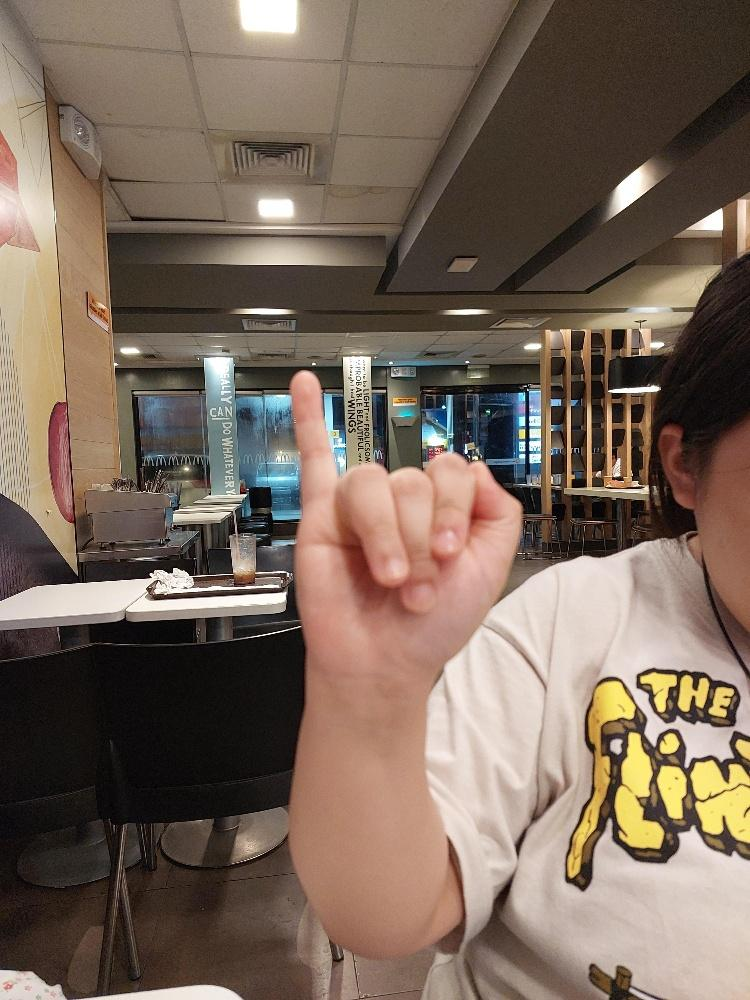i: (288, 367, 525, 707)
